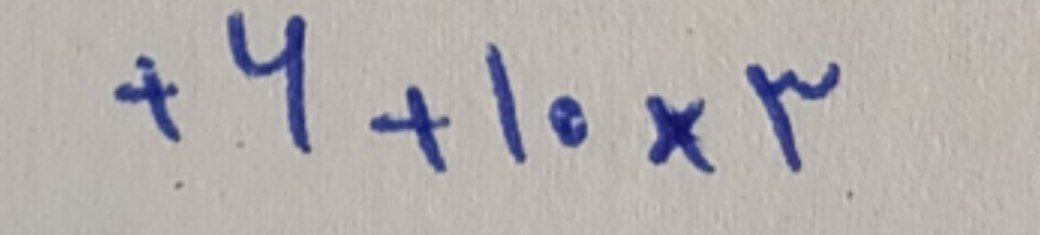character: (219, 3, 327, 162), (741, 54, 849, 183), (365, 80, 463, 181), (106, 49, 189, 143), (642, 86, 725, 179), (479, 37, 534, 170), (547, 91, 593, 157)
